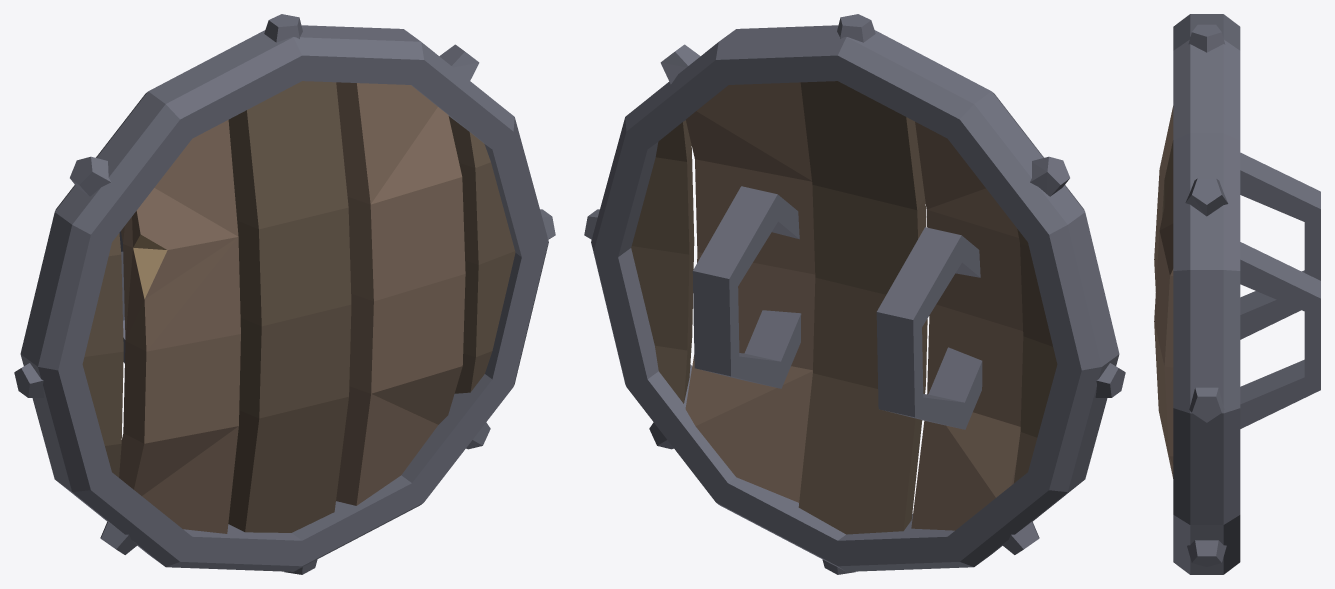
The model's file is shield_shield_6.glb.
3 views of the same model, side by side, from view 1: azimuth 30°, elevation 25°; view 2: azimuth 150°, elevation 25°; view 3: azimuth 270°, elevation 25° (orthographic). The views are drawn at different scales.
Parts seen in each view (by area): view 1: shield_6; view 2: shield_6; view 3: shield_6.
Boxes of the visible parts, <box> form: shield_6: <box>14,14,555,574</box>; shield_6: <box>584,14,1125,574</box>; shield_6: <box>1154,14,1320,574</box>.
Bounding box in the file's own units: 63.88 × 63.85 × 18.34.
Materials: 1 (1 with a texture image).
